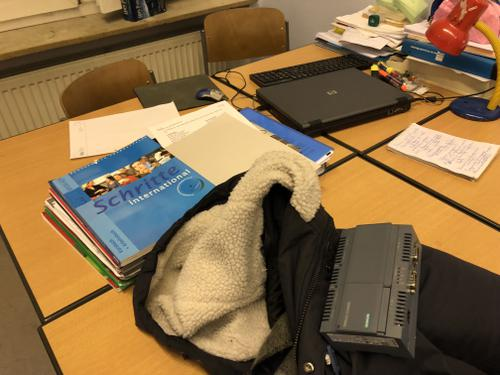device: (320, 223, 423, 359)
